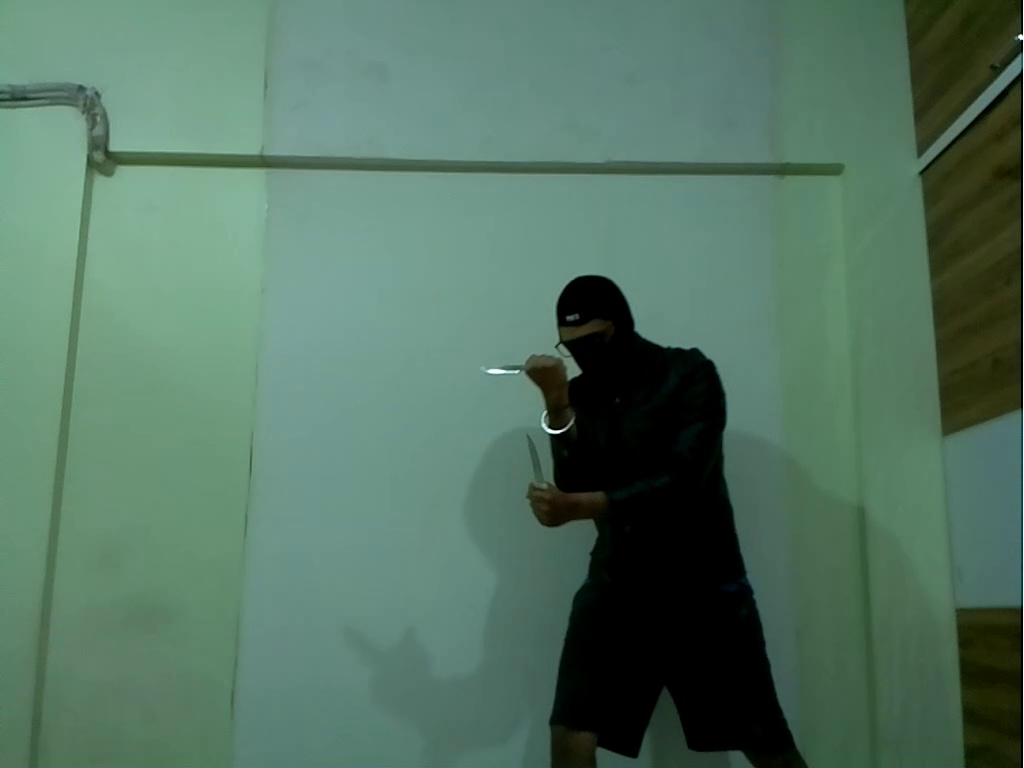knife: (516, 429, 547, 492), (472, 356, 536, 379)
